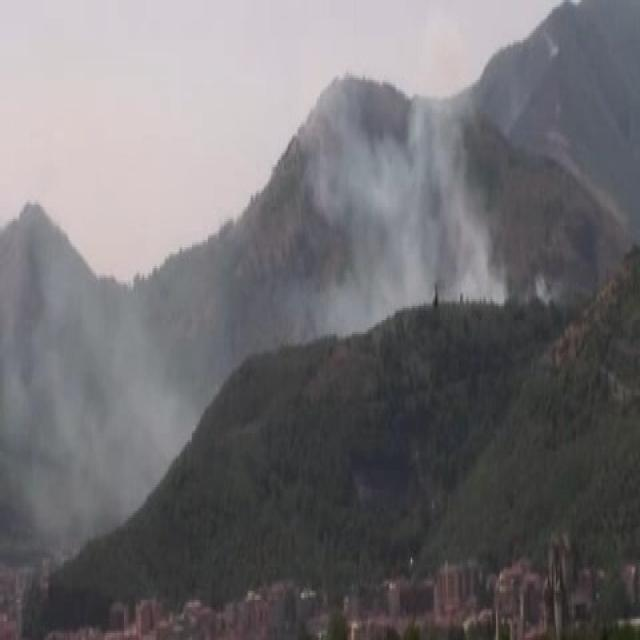Smoke: (298, 103, 507, 304), (29, 317, 170, 502)
